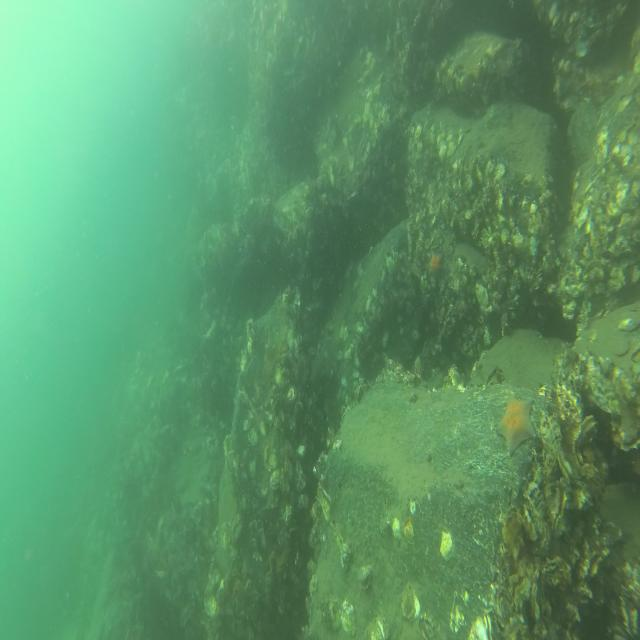starfish: (495, 394, 536, 458), (429, 249, 447, 284)
